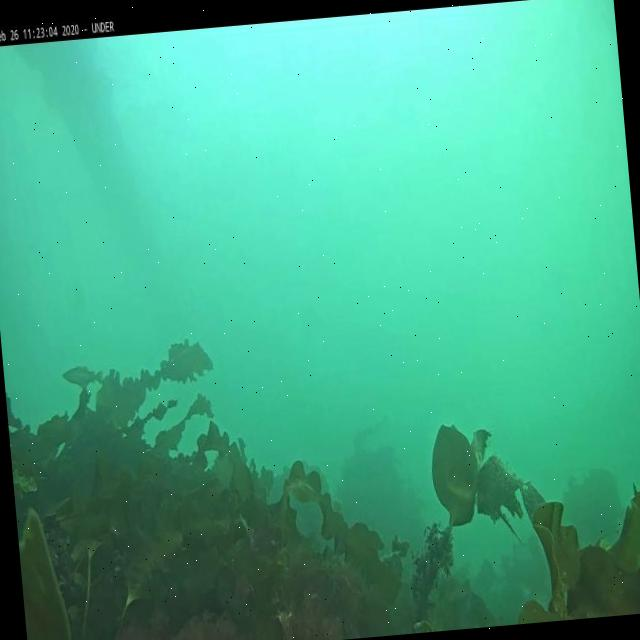fish: (60, 364, 102, 386)
